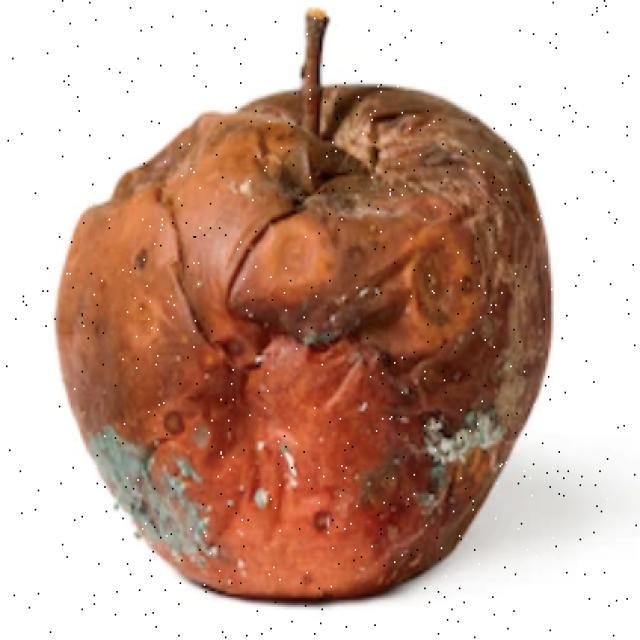Rotten: (61, 70, 536, 608)
